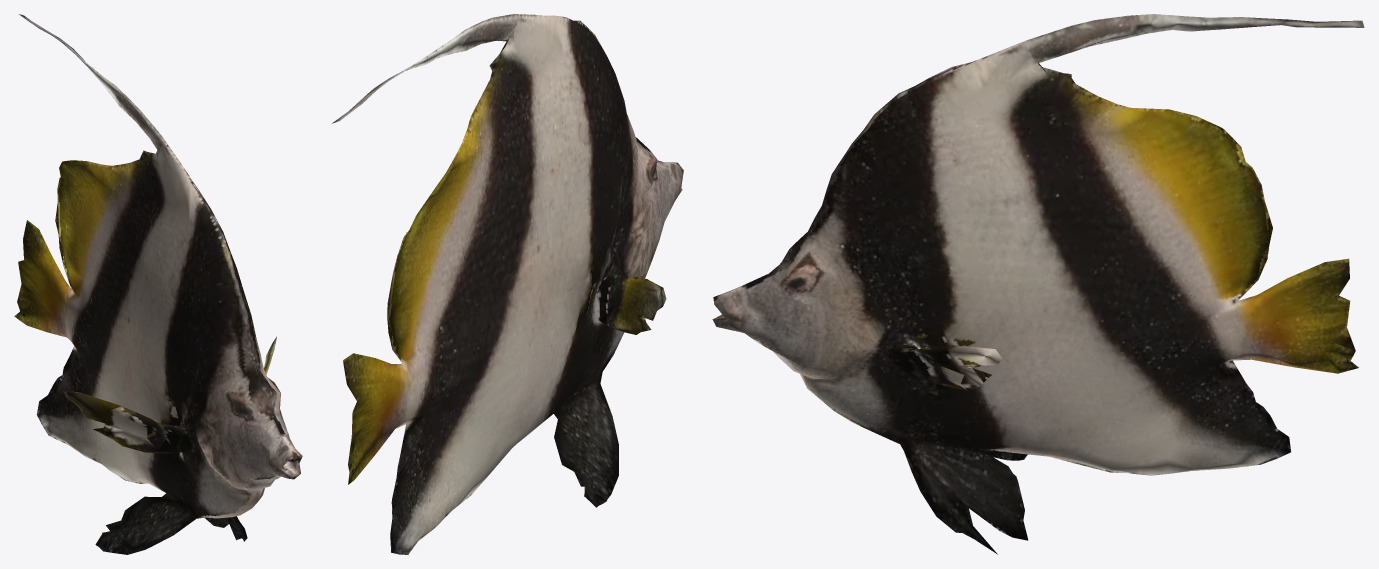
The model's file is butterflyfish.glb.
The picture shows the model from 3 angles, left to right: view 1: azimuth 30°, elevation 25°; view 2: azimuth 150°, elevation 25°; view 3: azimuth 270°, elevation 25°; orthographic projection. The views are drawn at different scales.
Visible parts, largest first — view 1: butterflyfish_near; view 2: butterflyfish_near; view 3: butterflyfish_near.
Boxes of the visible parts, x1=… form: butterflyfish_near: x1=14, y1=14, x2=302, y2=554; butterflyfish_near: x1=331, y1=14, x2=683, y2=554; butterflyfish_near: x1=712, y1=14, x2=1364, y2=554.
Size of the model in its own units: 0.0704 by 0.1351 by 0.1587.
1 material, 1 textured.
